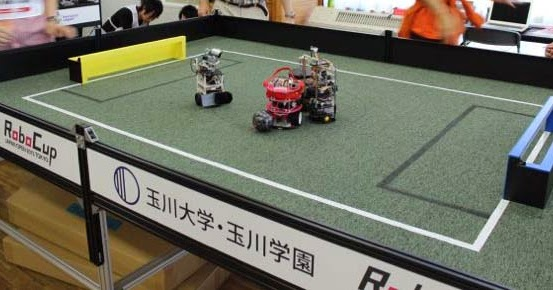Goal: (61, 33, 190, 83)
Robot: (292, 43, 341, 123), (254, 65, 305, 134), (189, 46, 234, 109)
